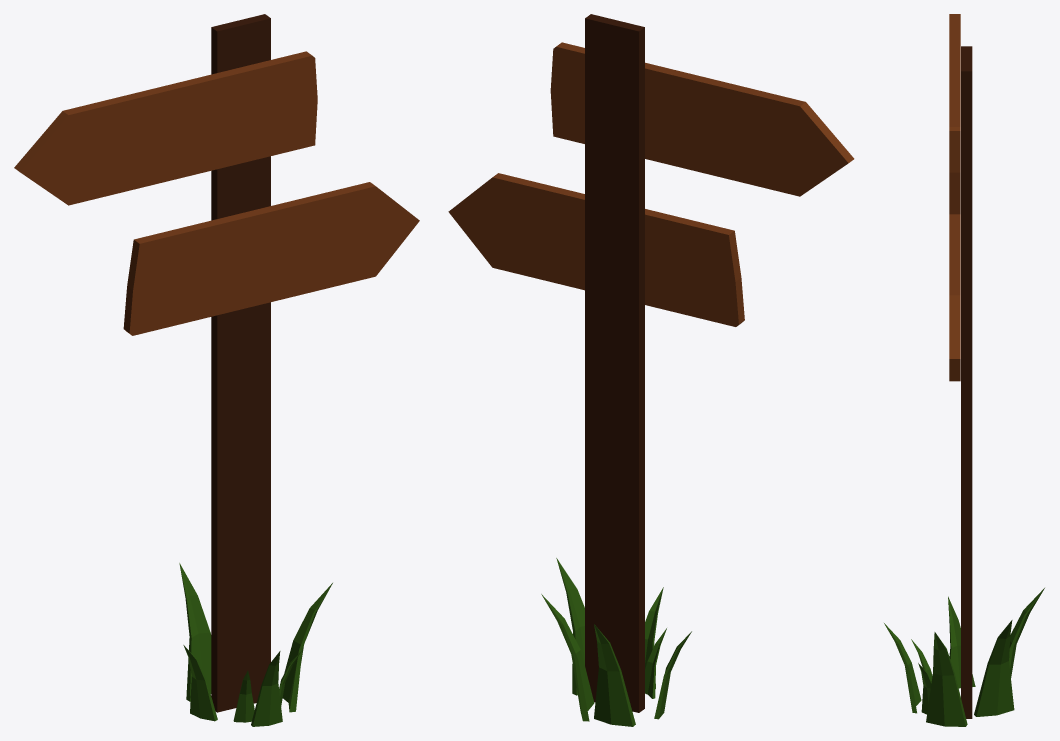
The model's file is Sign6.obj.
3 views of the same model, side by side, from view 1: azimuth 30°, elevation 25°; view 2: azimuth 150°, elevation 25°; view 3: azimuth 270°, elevation 25° (orthographic). The views are drawn at different scales.
Visible parts, largest first — view 1: Sign6; view 2: Sign6; view 3: Sign6.
Part boxes in pixels (x1,y1,x2,y2): Sign6: (14,14,419,726); Sign6: (448,14,854,726); Sign6: (884,14,1044,726).
Size of the model in its own units: 1.18 by 1.93 by 0.4385.
